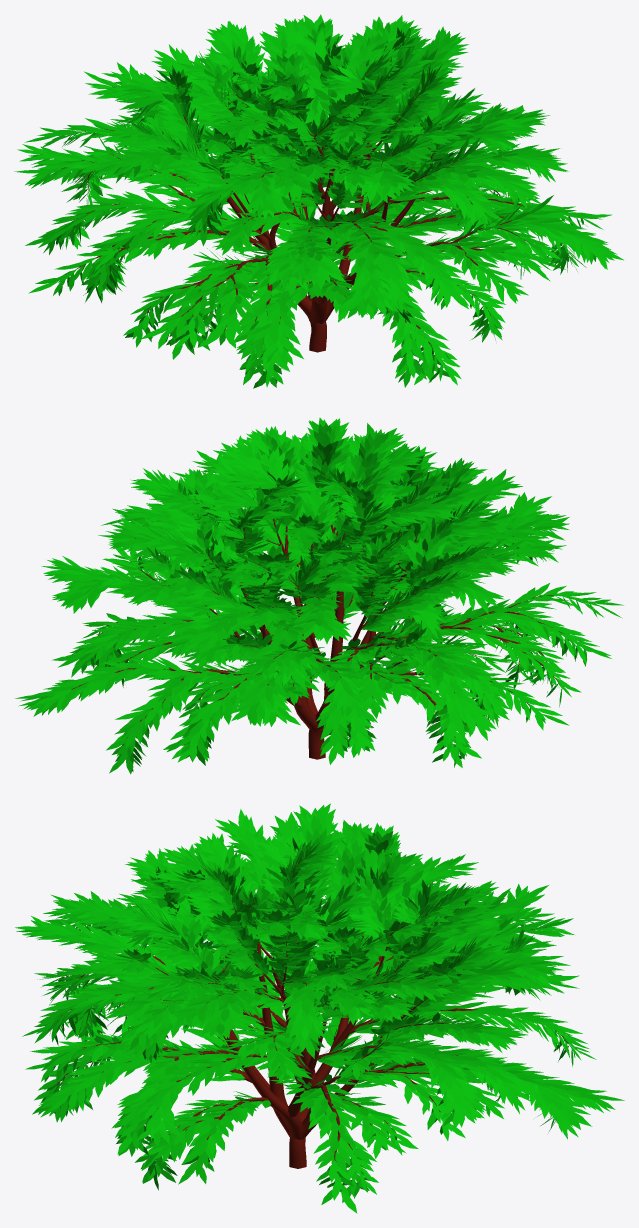
Rendered from tree.fbx.
The picture shows the model from 3 angles, top to bottom: view 1: azimuth 30°, elevation 25°; view 2: azimuth 150°, elevation 25°; view 3: azimuth 270°, elevation 25°; orthographic projection. The views are drawn at different scales.
Parts seen in each view (by area): view 1: leaves.001, tree.001; view 2: leaves.001, tree.001; view 3: leaves.001, tree.001.
Boxes of the visible parts, x1,y1,x2,y2 form: leaves.001: [14, 14, 623, 388]; tree.001: [61, 47, 568, 352]; leaves.001: [15, 417, 623, 774]; tree.001: [71, 485, 563, 759]; leaves.001: [15, 803, 624, 1213]; tree.001: [57, 858, 569, 1172].
Size of the model in its own units: 1204 by 694 by 1230.
